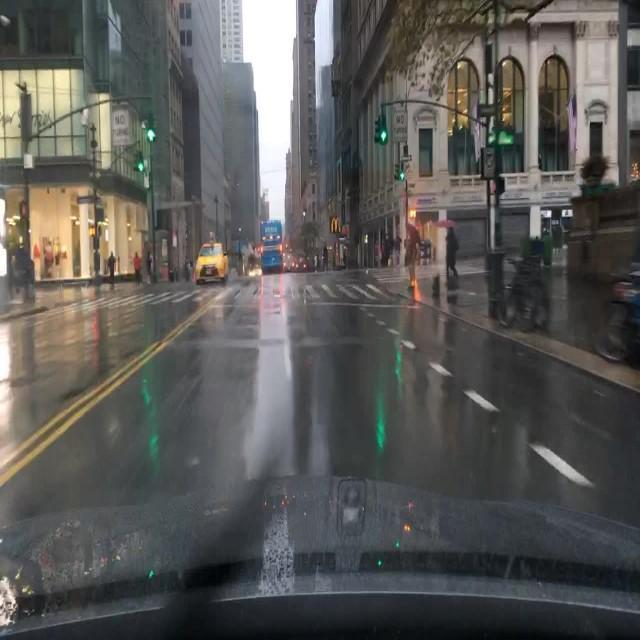normal: (177, 225, 241, 303)
